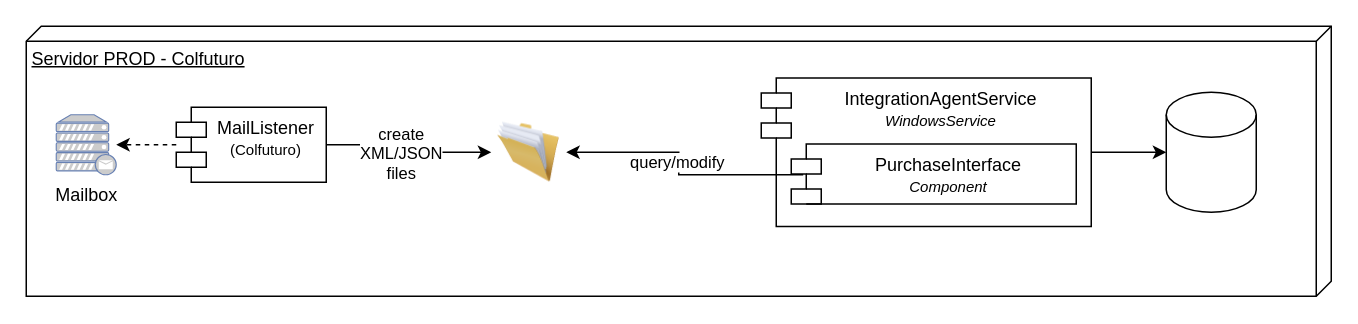
Image size: 1358x324. Some labels were removed from this diagram. Each missing label, with the box of its shape:
Filesystem Ruta compartida: (490, 122, 566, 182)
Mvtrade Trade Ofima DB: (1165, 91, 1256, 212)
